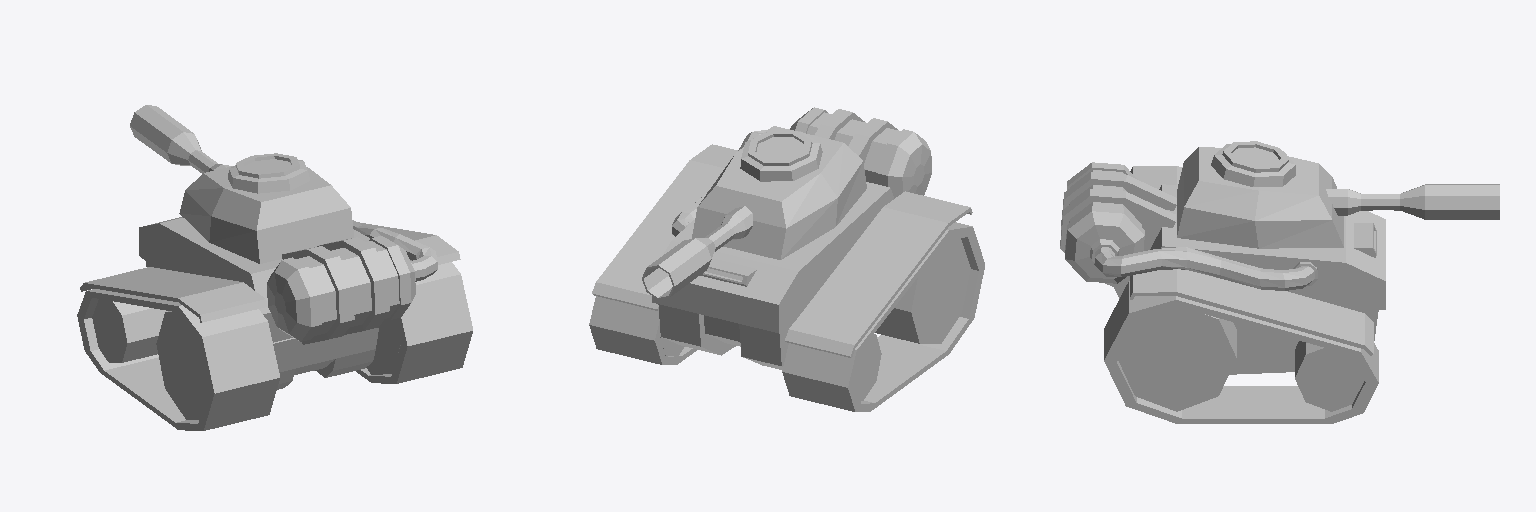
File: tank-bravo.obj
The picture shows the model from 3 angles: view 1: azimuth 30°, elevation 25°; view 2: azimuth 150°, elevation 25°; view 3: azimuth 270°, elevation 25°; orthographic projection.
Parts seen in each view (by area): view 1: Chassis_Cube.018, Turret_Cube.016; view 2: Chassis_Cube.018, Turret_Cube.016; view 3: Chassis_Cube.018, Turret_Cube.016.
Boxes of the visible parts, box(x1,y1,x2,y2) form: Chassis_Cube.018: box(77, 217, 472, 430); Turret_Cube.016: box(130, 105, 353, 263); Chassis_Cube.018: box(589, 107, 984, 411); Turret_Cube.016: box(642, 126, 866, 299); Chassis_Cube.018: box(1060, 162, 1385, 423); Turret_Cube.016: box(1177, 141, 1499, 248).
Bounding box in the file's own units: 5.88 × 4.54 × 8.64.